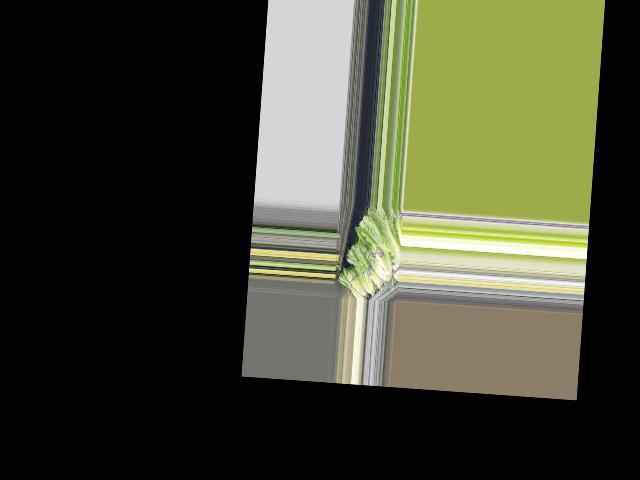lettuce: (359, 206, 401, 262)
